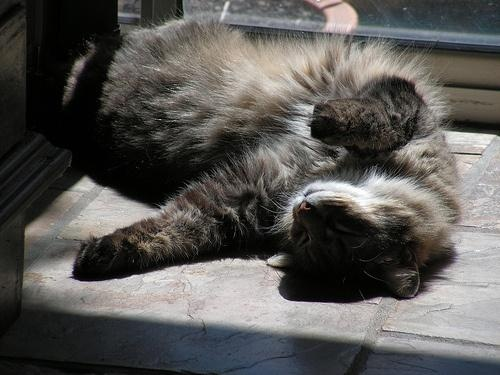cat: (73, 17, 467, 287)
